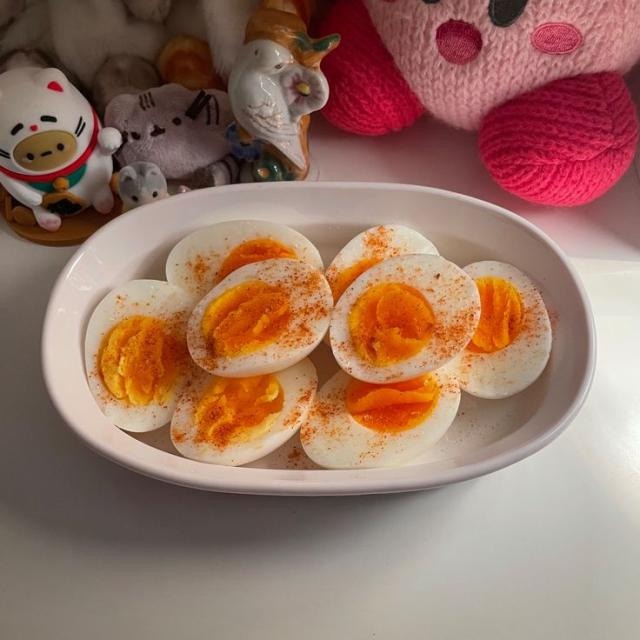eggs: (101, 230, 558, 457)
